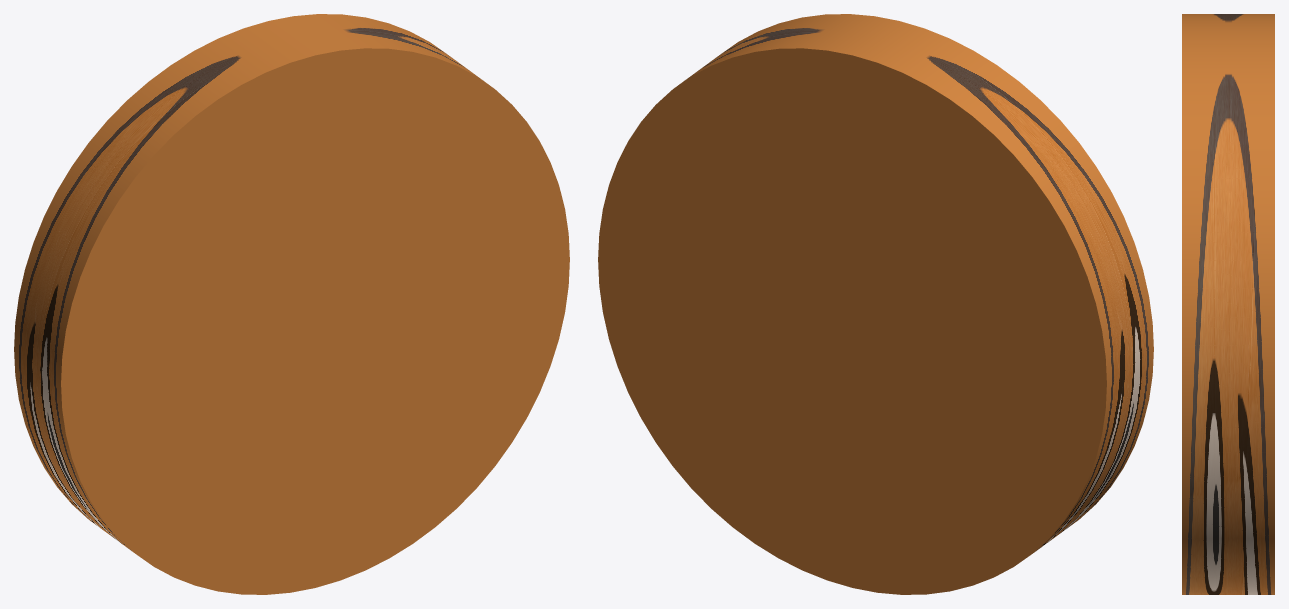
The model's file is player.FBX.
3 renders of one model, left to right at view 1: azimuth 30°, elevation 25°; view 2: azimuth 150°, elevation 25°; view 3: azimuth 270°, elevation 25°, orthographic.
Parts seen in each view (by area): view 1: Cylinder001; view 2: Cylinder001; view 3: Cylinder001.
Boxes of the visible parts, x1,y1,x2,y2 form: Cylinder001: (14,14,569,594); Cylinder001: (598,14,1153,594); Cylinder001: (1182,14,1274,594).
Size of the model in its own units: 2.36 by 2.36 by 0.3767.
